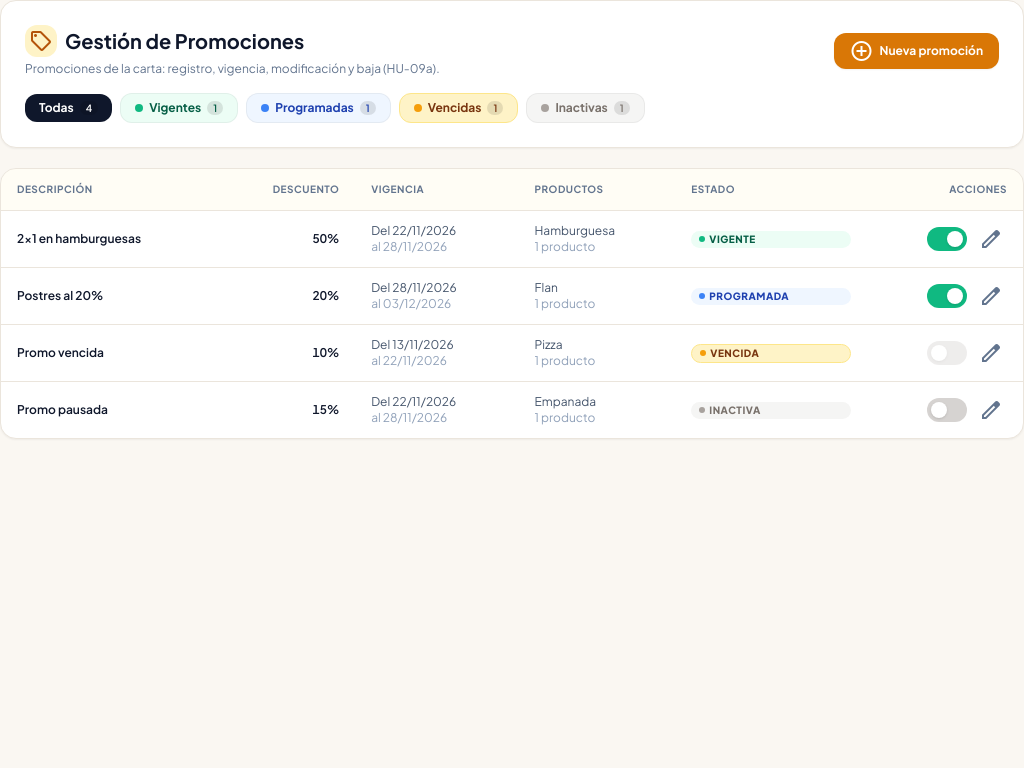
Test: PromocionesPage › edita una promoción con los datos precargados (CA4)
The width and height of the screenshot is (1024, 768).
Click the button named "Editar 2x1 en hamburguesas". click: (991, 239)
box: [975,223,1007,255]
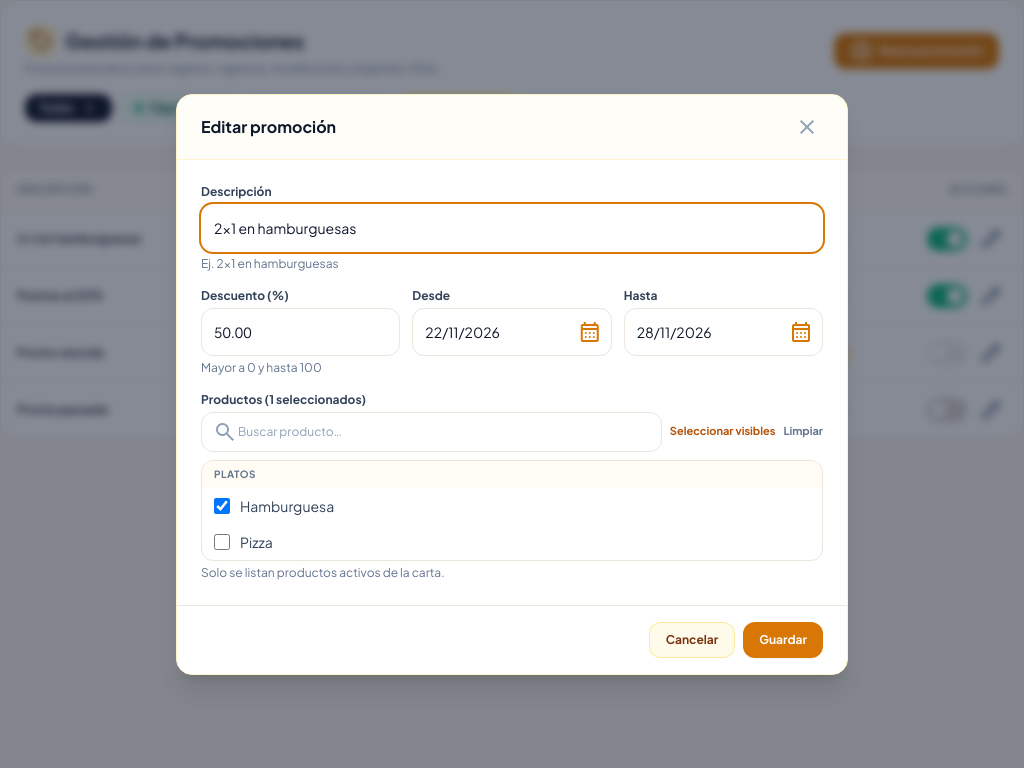
Check: the checkbox labelled "Hamburguesa" is shown, box [214,498,230,514]
Check: the field labelled "Descripción" holds "2x1 en hamburguesas"
Replace the text in the field labelled "Descripción" with "Promo editada". click: (512, 228)
box: [201,204,823,252]
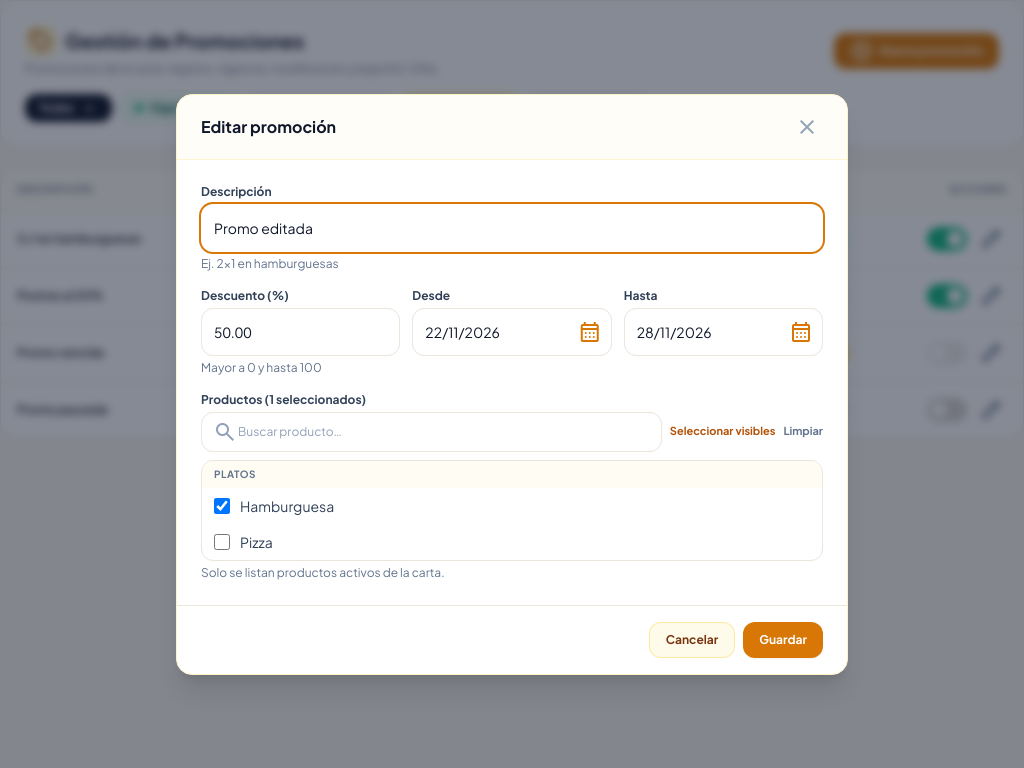
Click the button "Guardar". click: (783, 640)
box: [743,622,823,658]
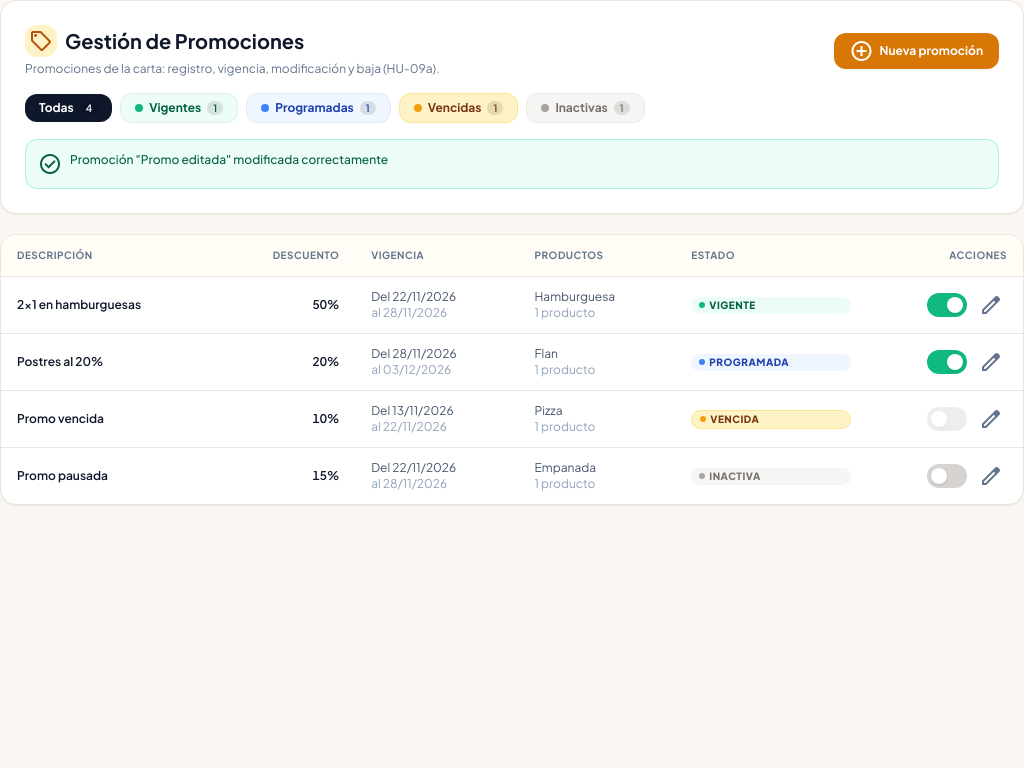
Check: the text "Promoción \"Promo editada\" modificada correctamente" is shown, box [70,152,388,167]
